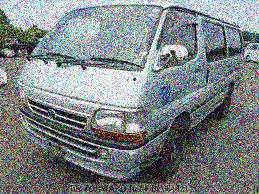van: (15, 2, 249, 177)
